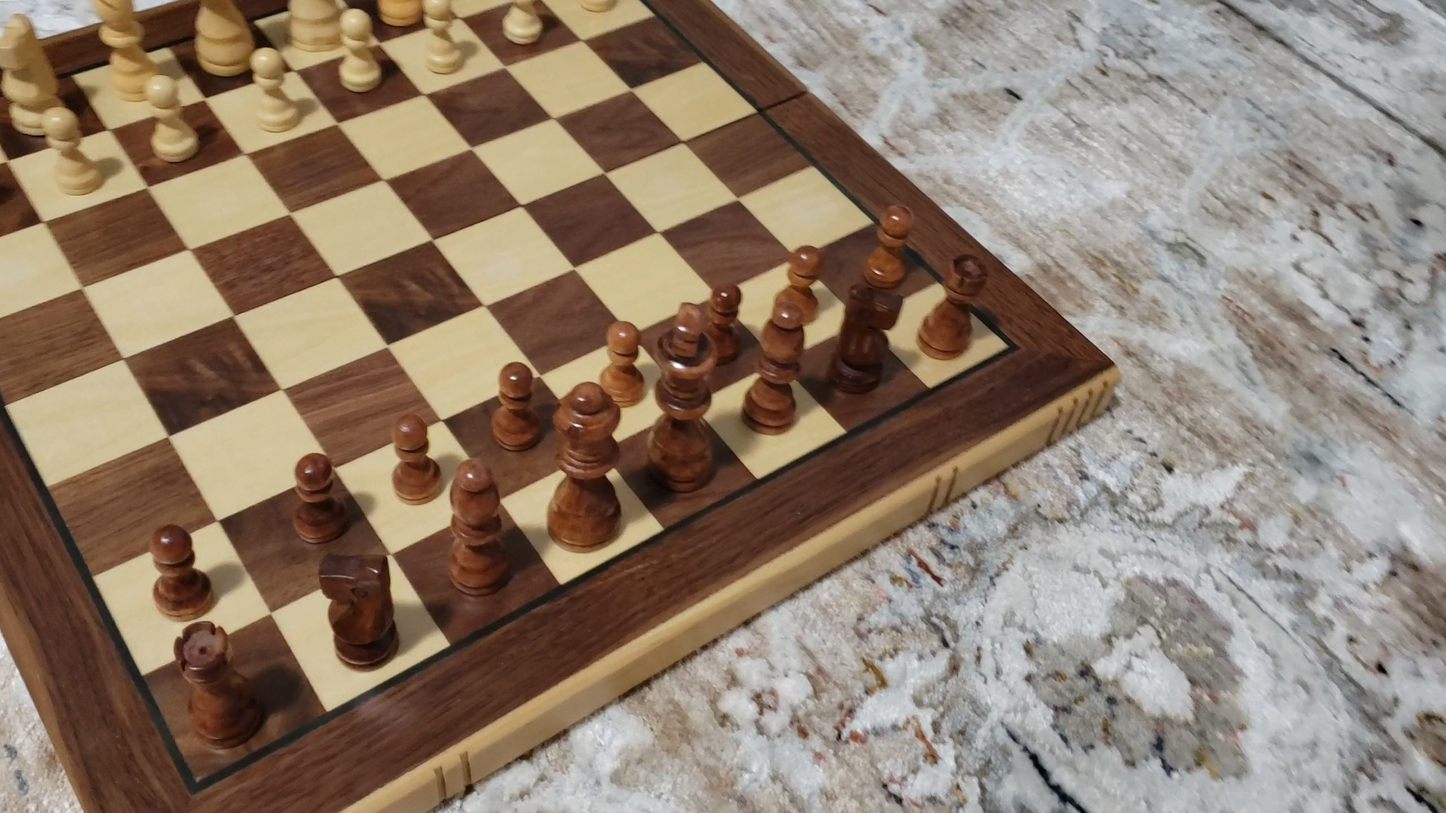black-bishop: (744, 289, 807, 431), (446, 460, 511, 596)
black-king: (637, 297, 726, 499)
black-knight: (319, 549, 401, 667), (823, 278, 894, 398)
black-pawn: (112, 520, 240, 621), (860, 197, 920, 295), (291, 453, 350, 546), (390, 410, 443, 502), (779, 232, 832, 321), (490, 361, 541, 453), (598, 318, 644, 408), (699, 281, 742, 368)
black-queen: (547, 385, 625, 552)
black-rook: (173, 619, 266, 748), (917, 252, 989, 362)
white-bishop: (97, 0, 158, 101)
white-knight: (1, 12, 65, 135)
white-pawn: (28, 93, 112, 206), (242, 46, 305, 142), (330, 7, 382, 102), (145, 72, 199, 162), (415, 0, 470, 83), (502, 1, 544, 45)
